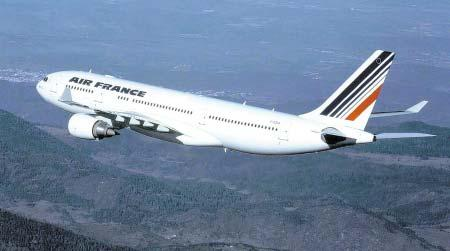airplane: (34, 49, 442, 159)
